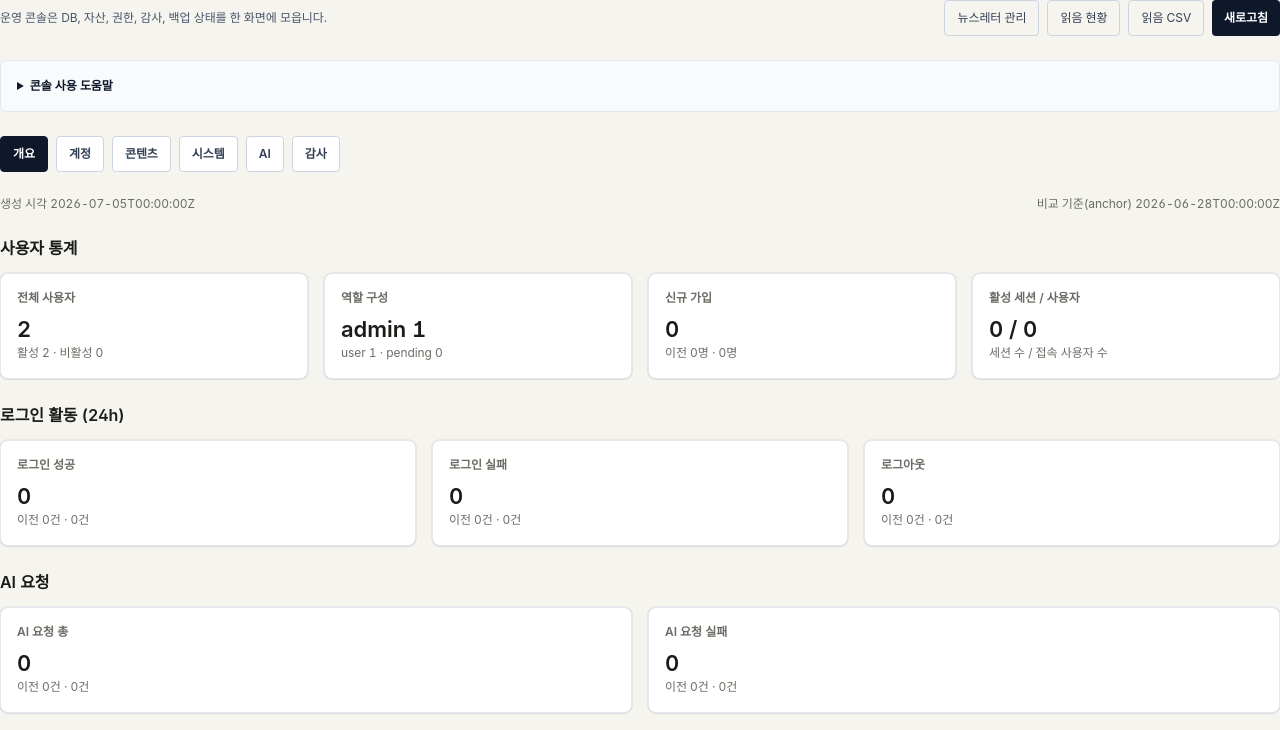
Test: module status and visibility selects expose only defined values and invalid create is blocked inline
This screenshot has width=1280, height=730.
Step 1. Click the tab "콘텐츠" → click(141, 154), box [112,136,171,172]
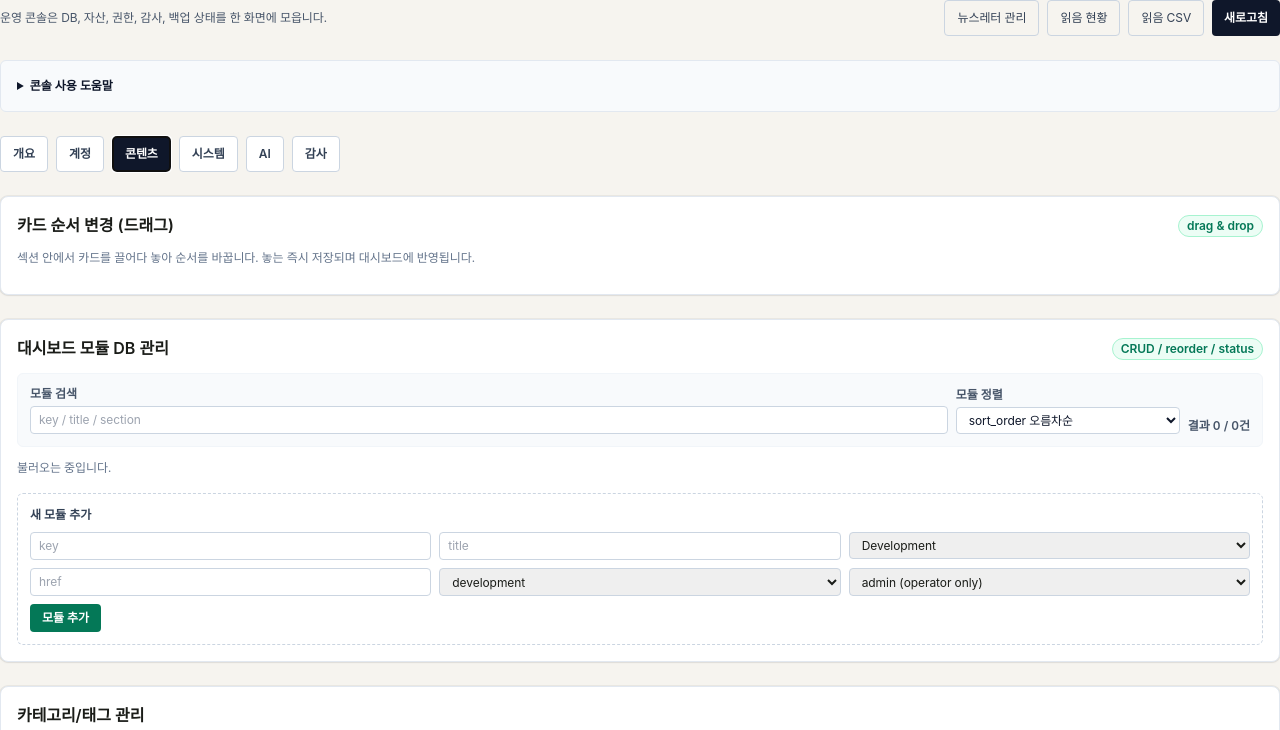
Check: the heading "대시보드 모듈 DB 관리" is shown, box [17,336,169,361]
Step 2. Type "Unsafe Module" into the field named "new module title" → (640, 546), box [439,532,841,560]
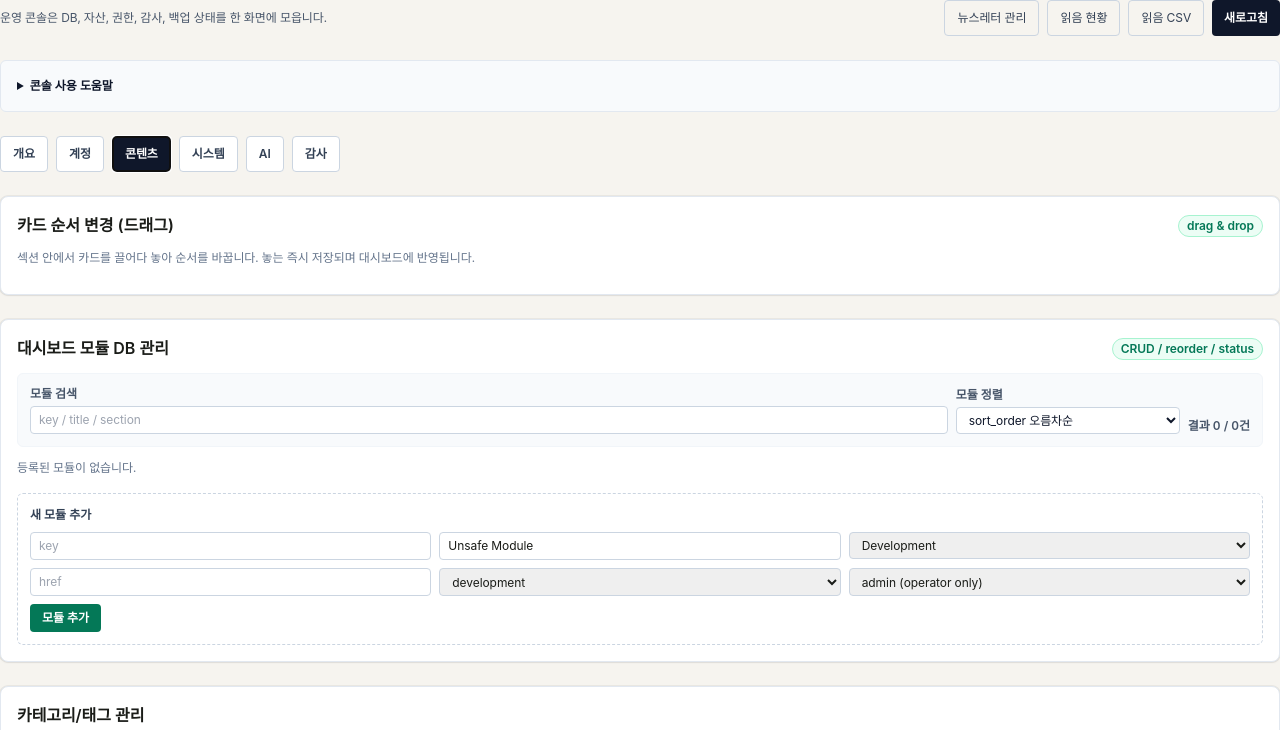
Step 3. Type "/unsafe" into the field named "new module href" → (231, 582), box [30,568,431,596]
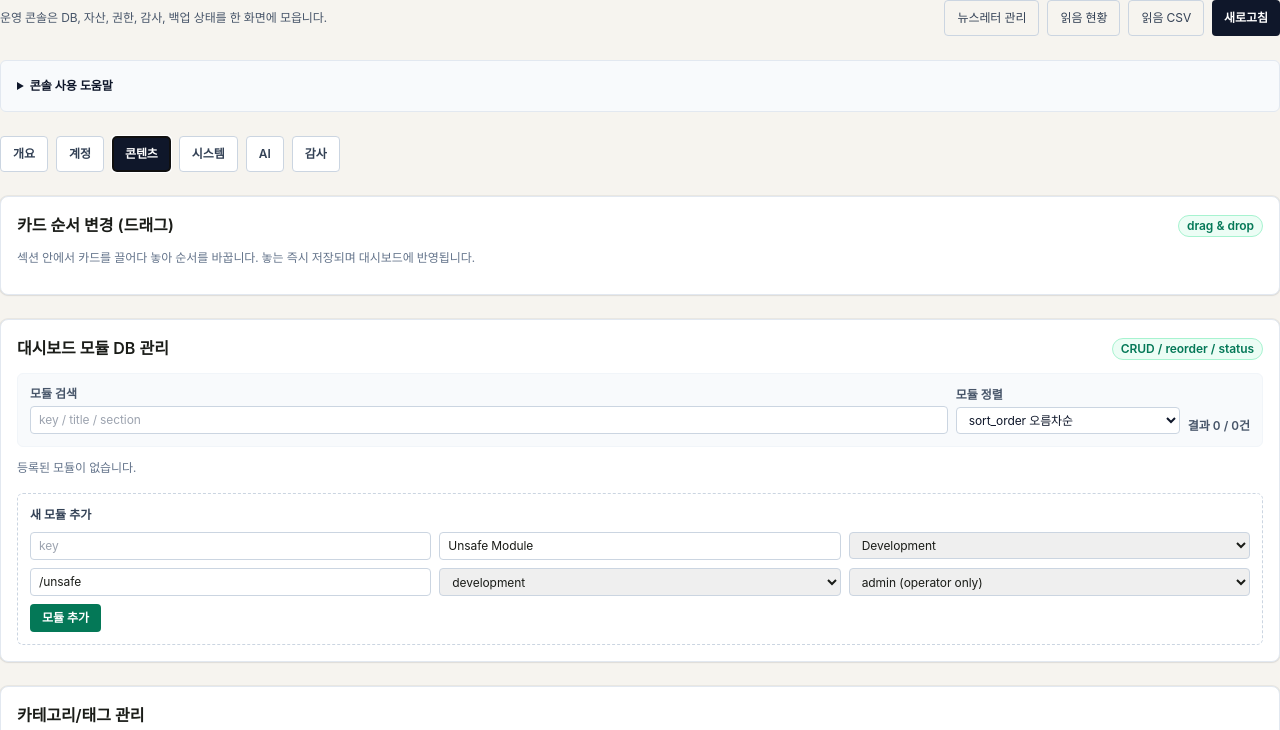
Step 4. Click the button "모듈 추가" → click(66, 618), box [30,604,101,632]
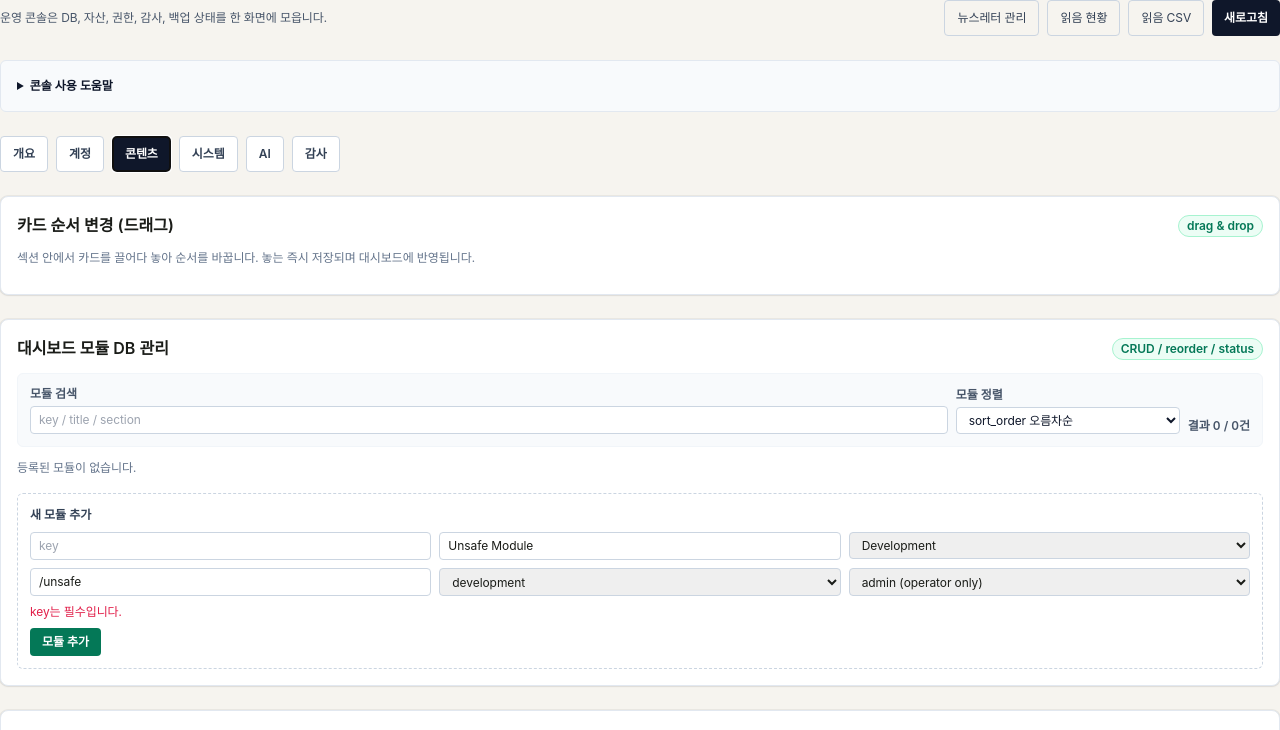
Check: the list item "key는 필수입니다." is shown, box [30,604,122,619]
